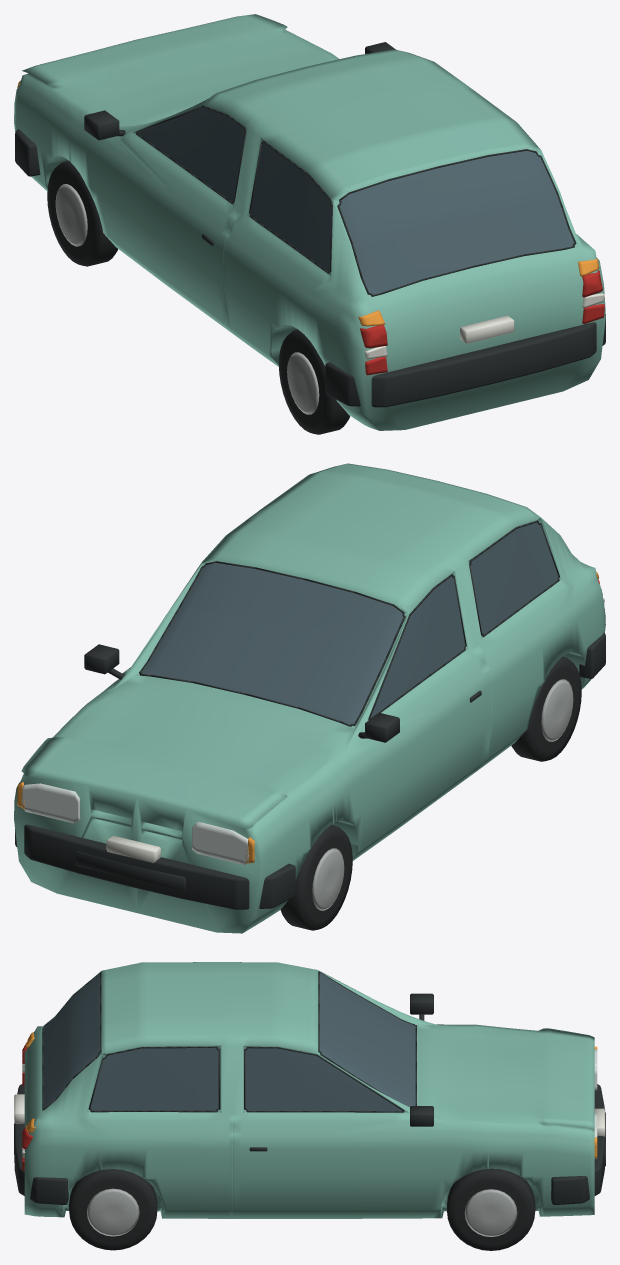
File: micra-k11.glb
The picture shows the model from 3 angles, top to bottom: view 1: azimuth 30°, elevation 25°; view 2: azimuth 150°, elevation 25°; view 3: azimuth 270°, elevation 25°; orthographic projection. The views are drawn at different scales.
Visible parts, largest first — view 1: body, glass_envelope, parts_weatherstrip_rubber, wheel_fl, wheel_rl, lamp_taillights_red, trim_rim_rl, trim_rim_fl, parts_registration_ivory, parts_amber_indicators; view 2: body, glass_envelope, parts_weatherstrip_rubber, lamp_headlights, wheel_fl, wheel_rl, trim_rim_rl, trim_rim_fl, parts_registration_ivory; view 3: body, glass_envelope, parts_weatherstrip_rubber, wheel_fr, wheel_rr, trim_rim_fr, trim_rim_rr, parts_registration_ivory.
Part boxes in pixels (x1,y1,x2,y2): body: (14, 14, 605, 430); glass_envelope: (138, 99, 574, 294); parts_weatherstrip_rubber: (15, 42, 605, 407); wheel_fl: (47, 161, 117, 266); wheel_rl: (278, 329, 349, 434); lamp_taillights_red: (360, 270, 604, 375); trim_rim_rl: (287, 352, 319, 414); trim_rim_fl: (55, 184, 87, 246); parts_registration_ivory: (364, 293, 604, 359); parts_amber_indicators: (17, 80, 599, 326); body: (14, 463, 605, 933); glass_envelope: (141, 522, 558, 724); parts_weatherstrip_rubber: (15, 520, 605, 909); lamp_headlights: (21, 783, 249, 865); wheel_fl: (280, 825, 352, 930); wheel_rl: (511, 656, 581, 761); trim_rim_rl: (541, 679, 573, 741); trim_rim_fl: (312, 848, 344, 910); parts_registration_ivory: (106, 598, 604, 863); body: (24, 962, 594, 1218); glass_envelope: (43, 973, 415, 1111); parts_weatherstrip_rubber: (14, 971, 605, 1204); wheel_fr: (447, 1168, 535, 1250); wheel_rr: (69, 1169, 157, 1250); trim_rim_fr: (464, 1189, 517, 1236); trim_rim_rr: (87, 1188, 139, 1236); parts_registration_ivory: (14, 1064, 605, 1157).
Size of the model in its own units: 1.79 by 1.43 by 3.7.
